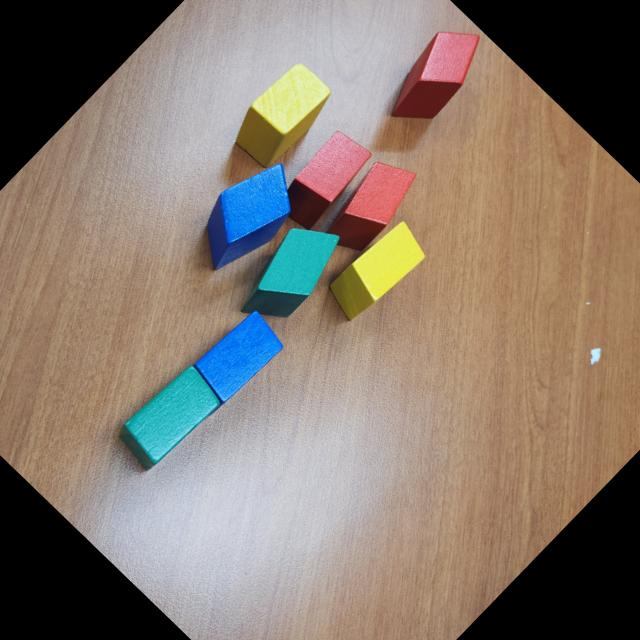blue: (178, 146, 316, 284), (186, 306, 288, 408)
green: (225, 210, 354, 340), (110, 358, 228, 477)
red: (374, 15, 497, 140), (314, 146, 428, 262), (270, 125, 376, 232)
yellow: (224, 56, 340, 175), (321, 214, 433, 328)
